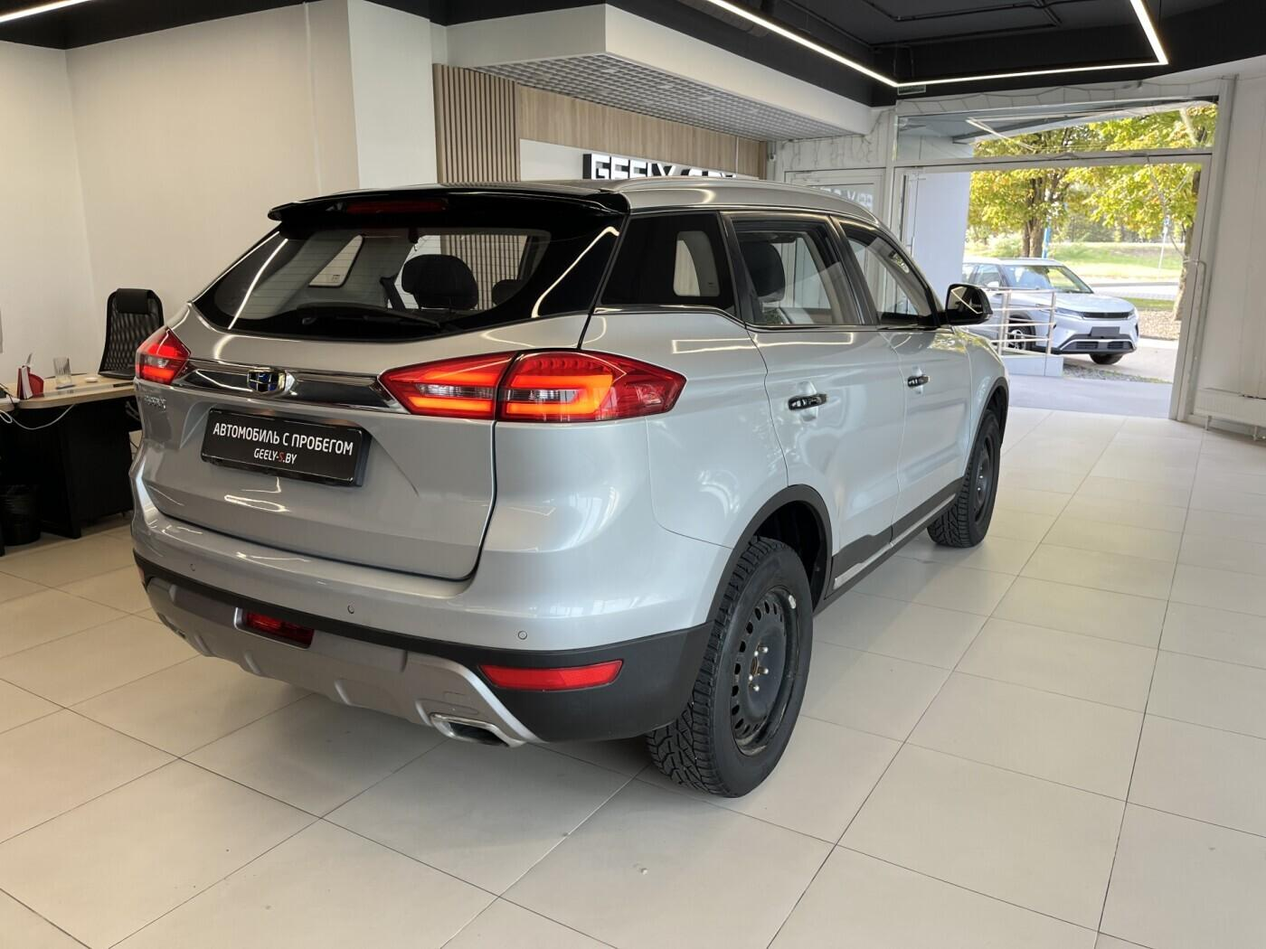Atlas_2016-2023: (125, 177, 1009, 797)
